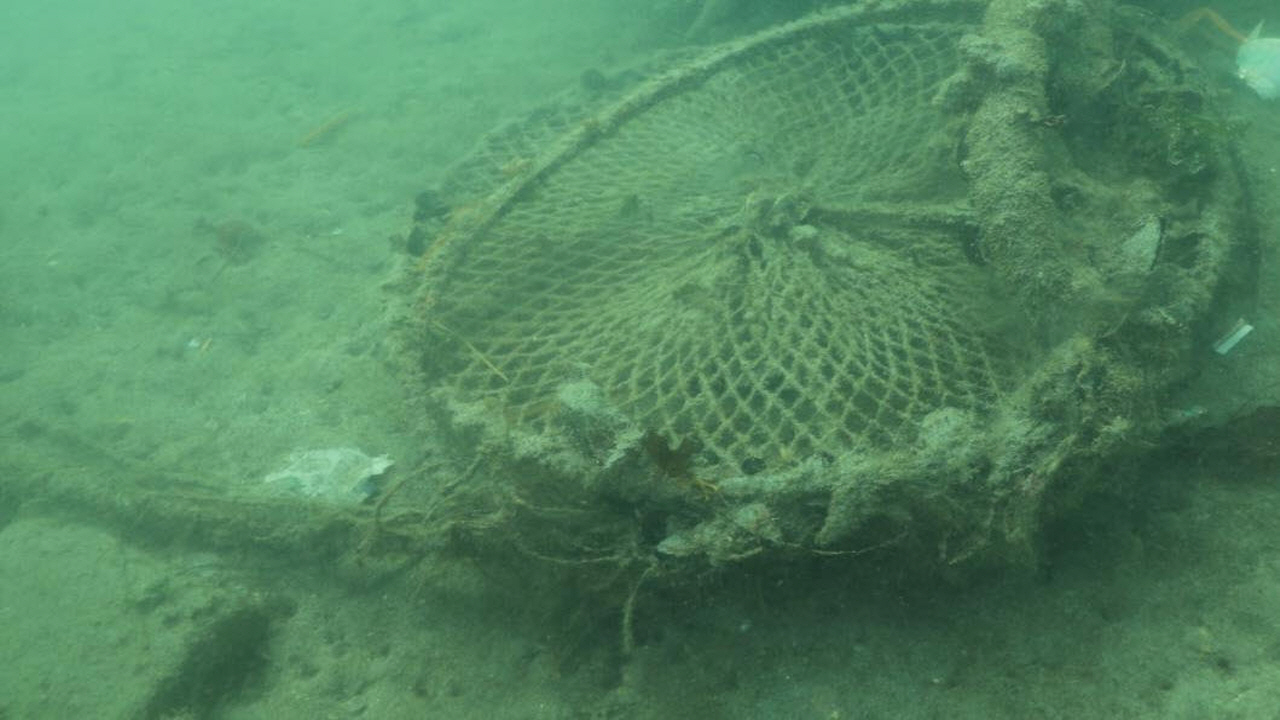circular fish trap: (385, 19, 1233, 494)
